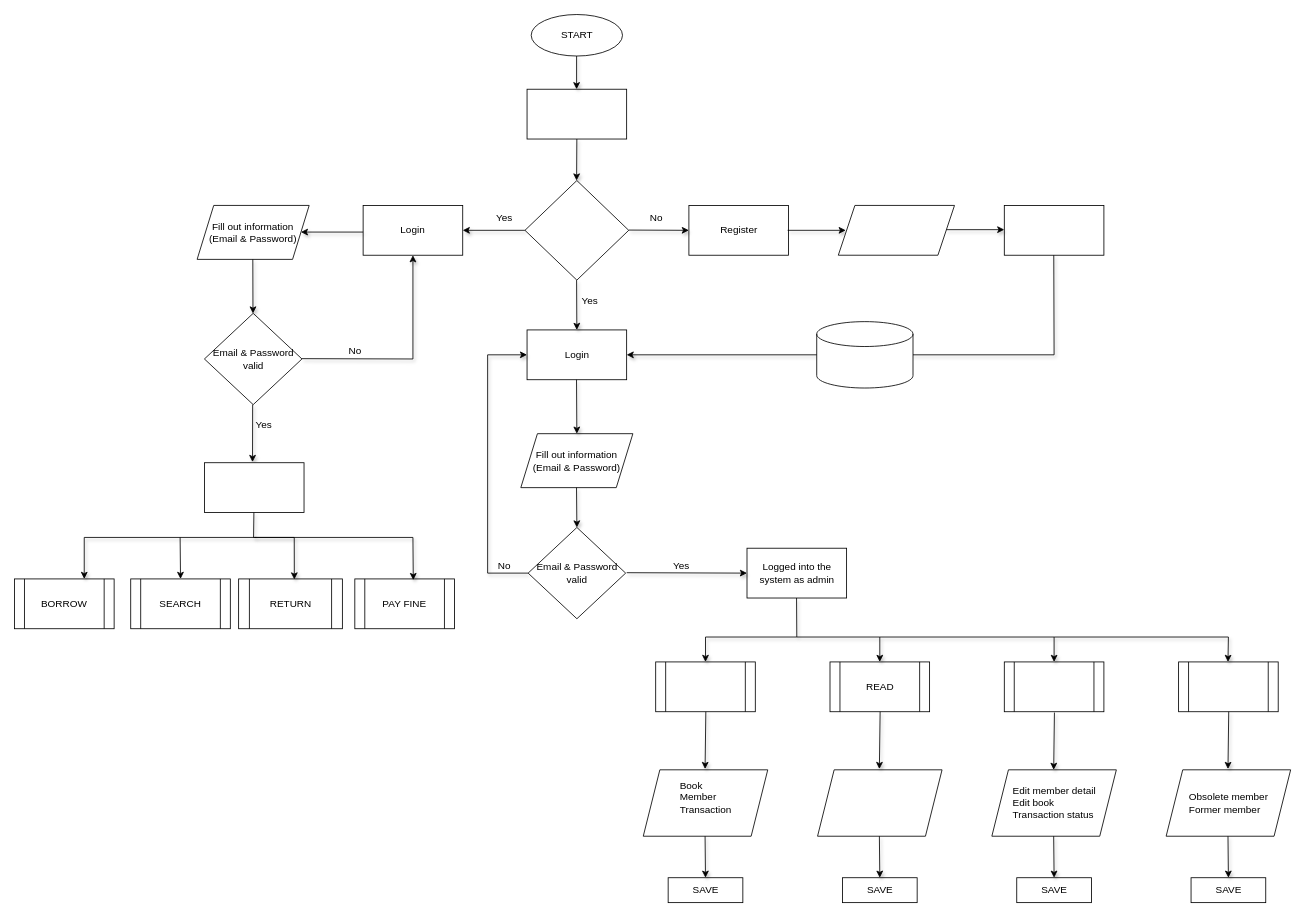
Some shapes in this 1306 by 917 pixel diagram are drawn without their labels. Each missing label, with the centre of its shape:
"Book list Borrow history" belongs at point (879, 802).
"CREATE" belongs at point (705, 686).
"Database Manager" belongs at point (864, 354).
"DELETE" belongs at point (1228, 686).
"Enter to the application" belongs at point (576, 113).
"Fill out infromation" belongs at point (895, 230).
"Have an acccount?" belongs at point (576, 230).
"Logged into the system as member" belongs at point (254, 487).
"Submit" belongs at point (1053, 230).
"UPDATE" belongs at point (1053, 686).
